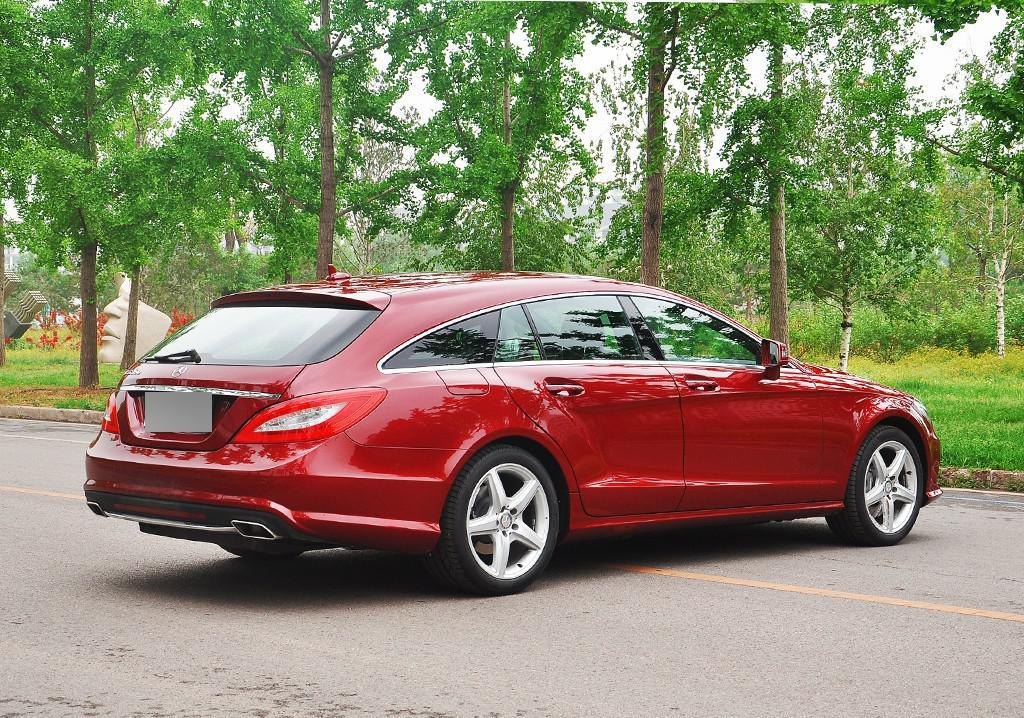Wagon: (82, 268, 944, 596)
